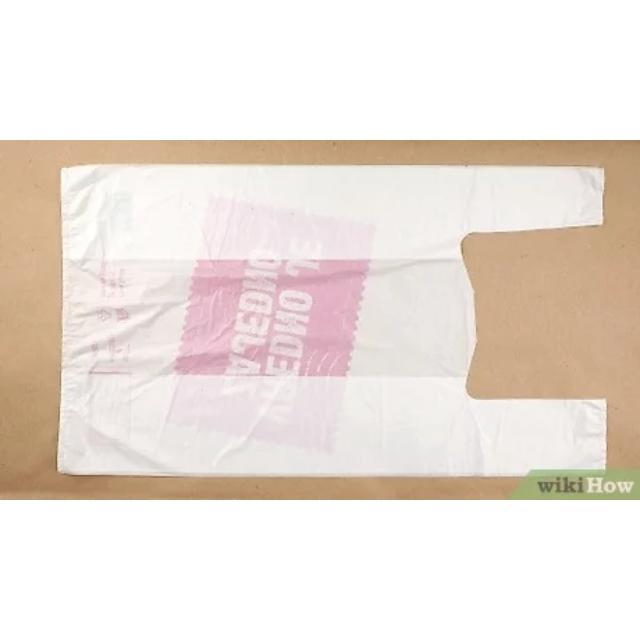plastic: (59, 164, 606, 476)
